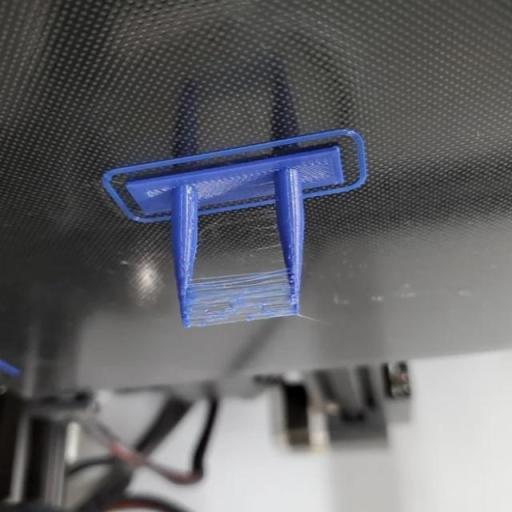stringing: (194, 276, 283, 324)
